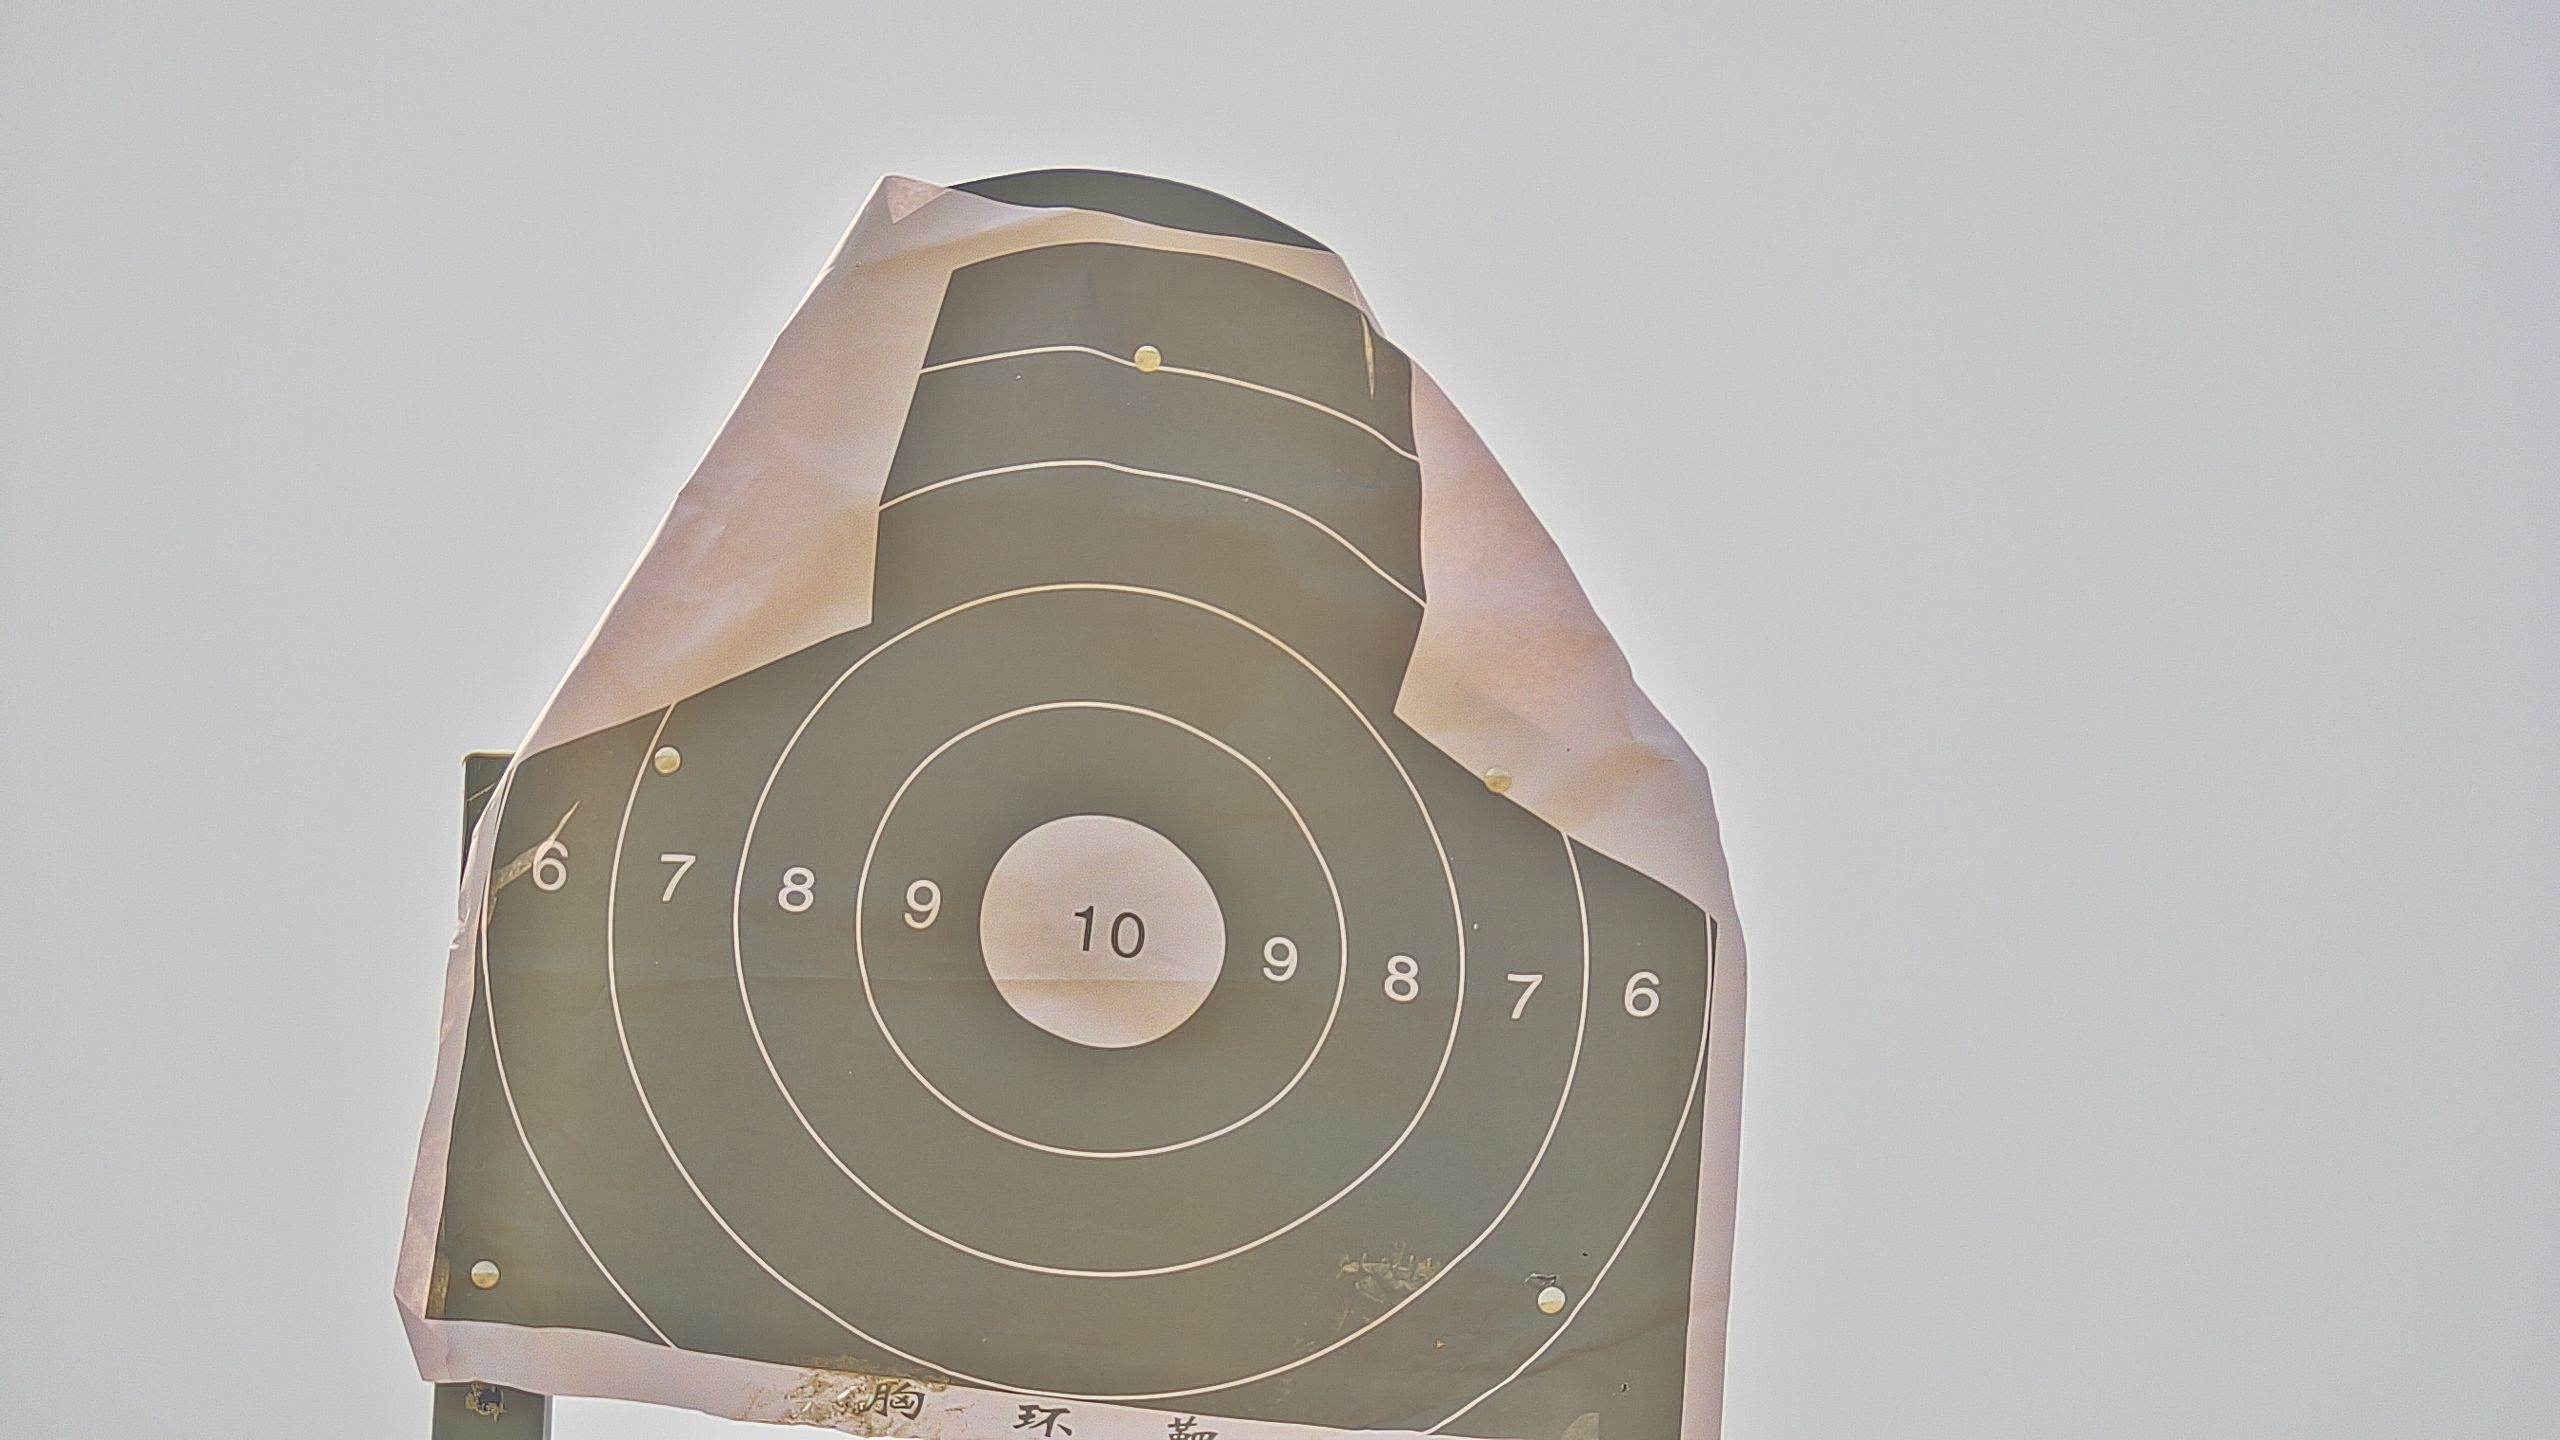kernel: (1101, 928, 1104, 937)
target: (422, 241, 1725, 1440)
ten: (978, 816, 1222, 1051)
